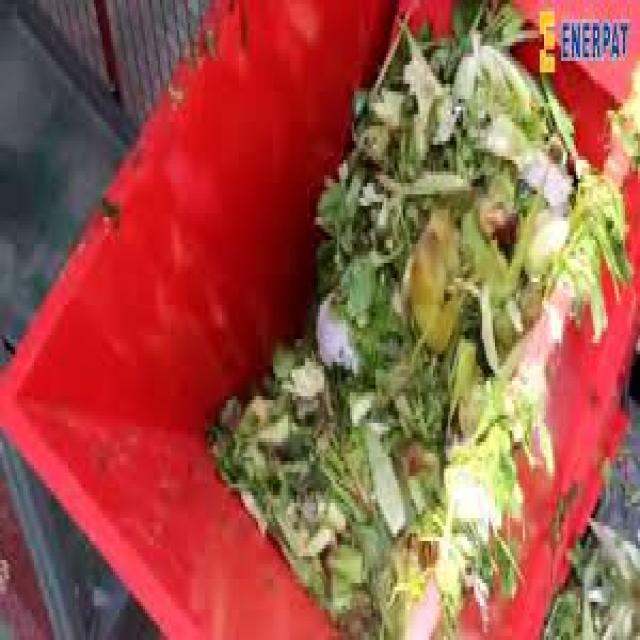Organik: (205, 0, 541, 640)
